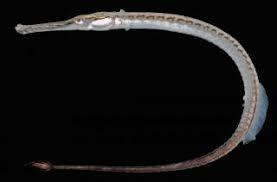Long-Snouted Pipefish: (14, 8, 270, 173)
